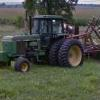Tractor: (5, 10, 92, 73)
